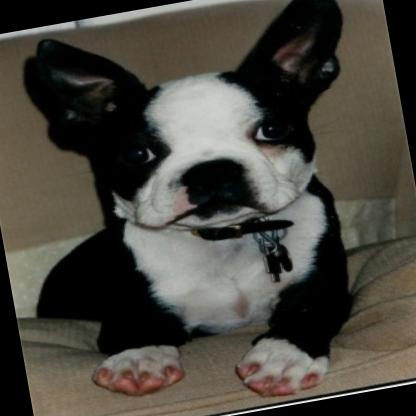French_bulldog: (0, 0, 408, 416)
